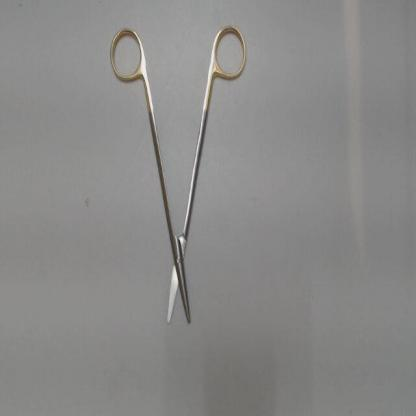7 Metzenbaum Scissors: (107, 23, 249, 325)
